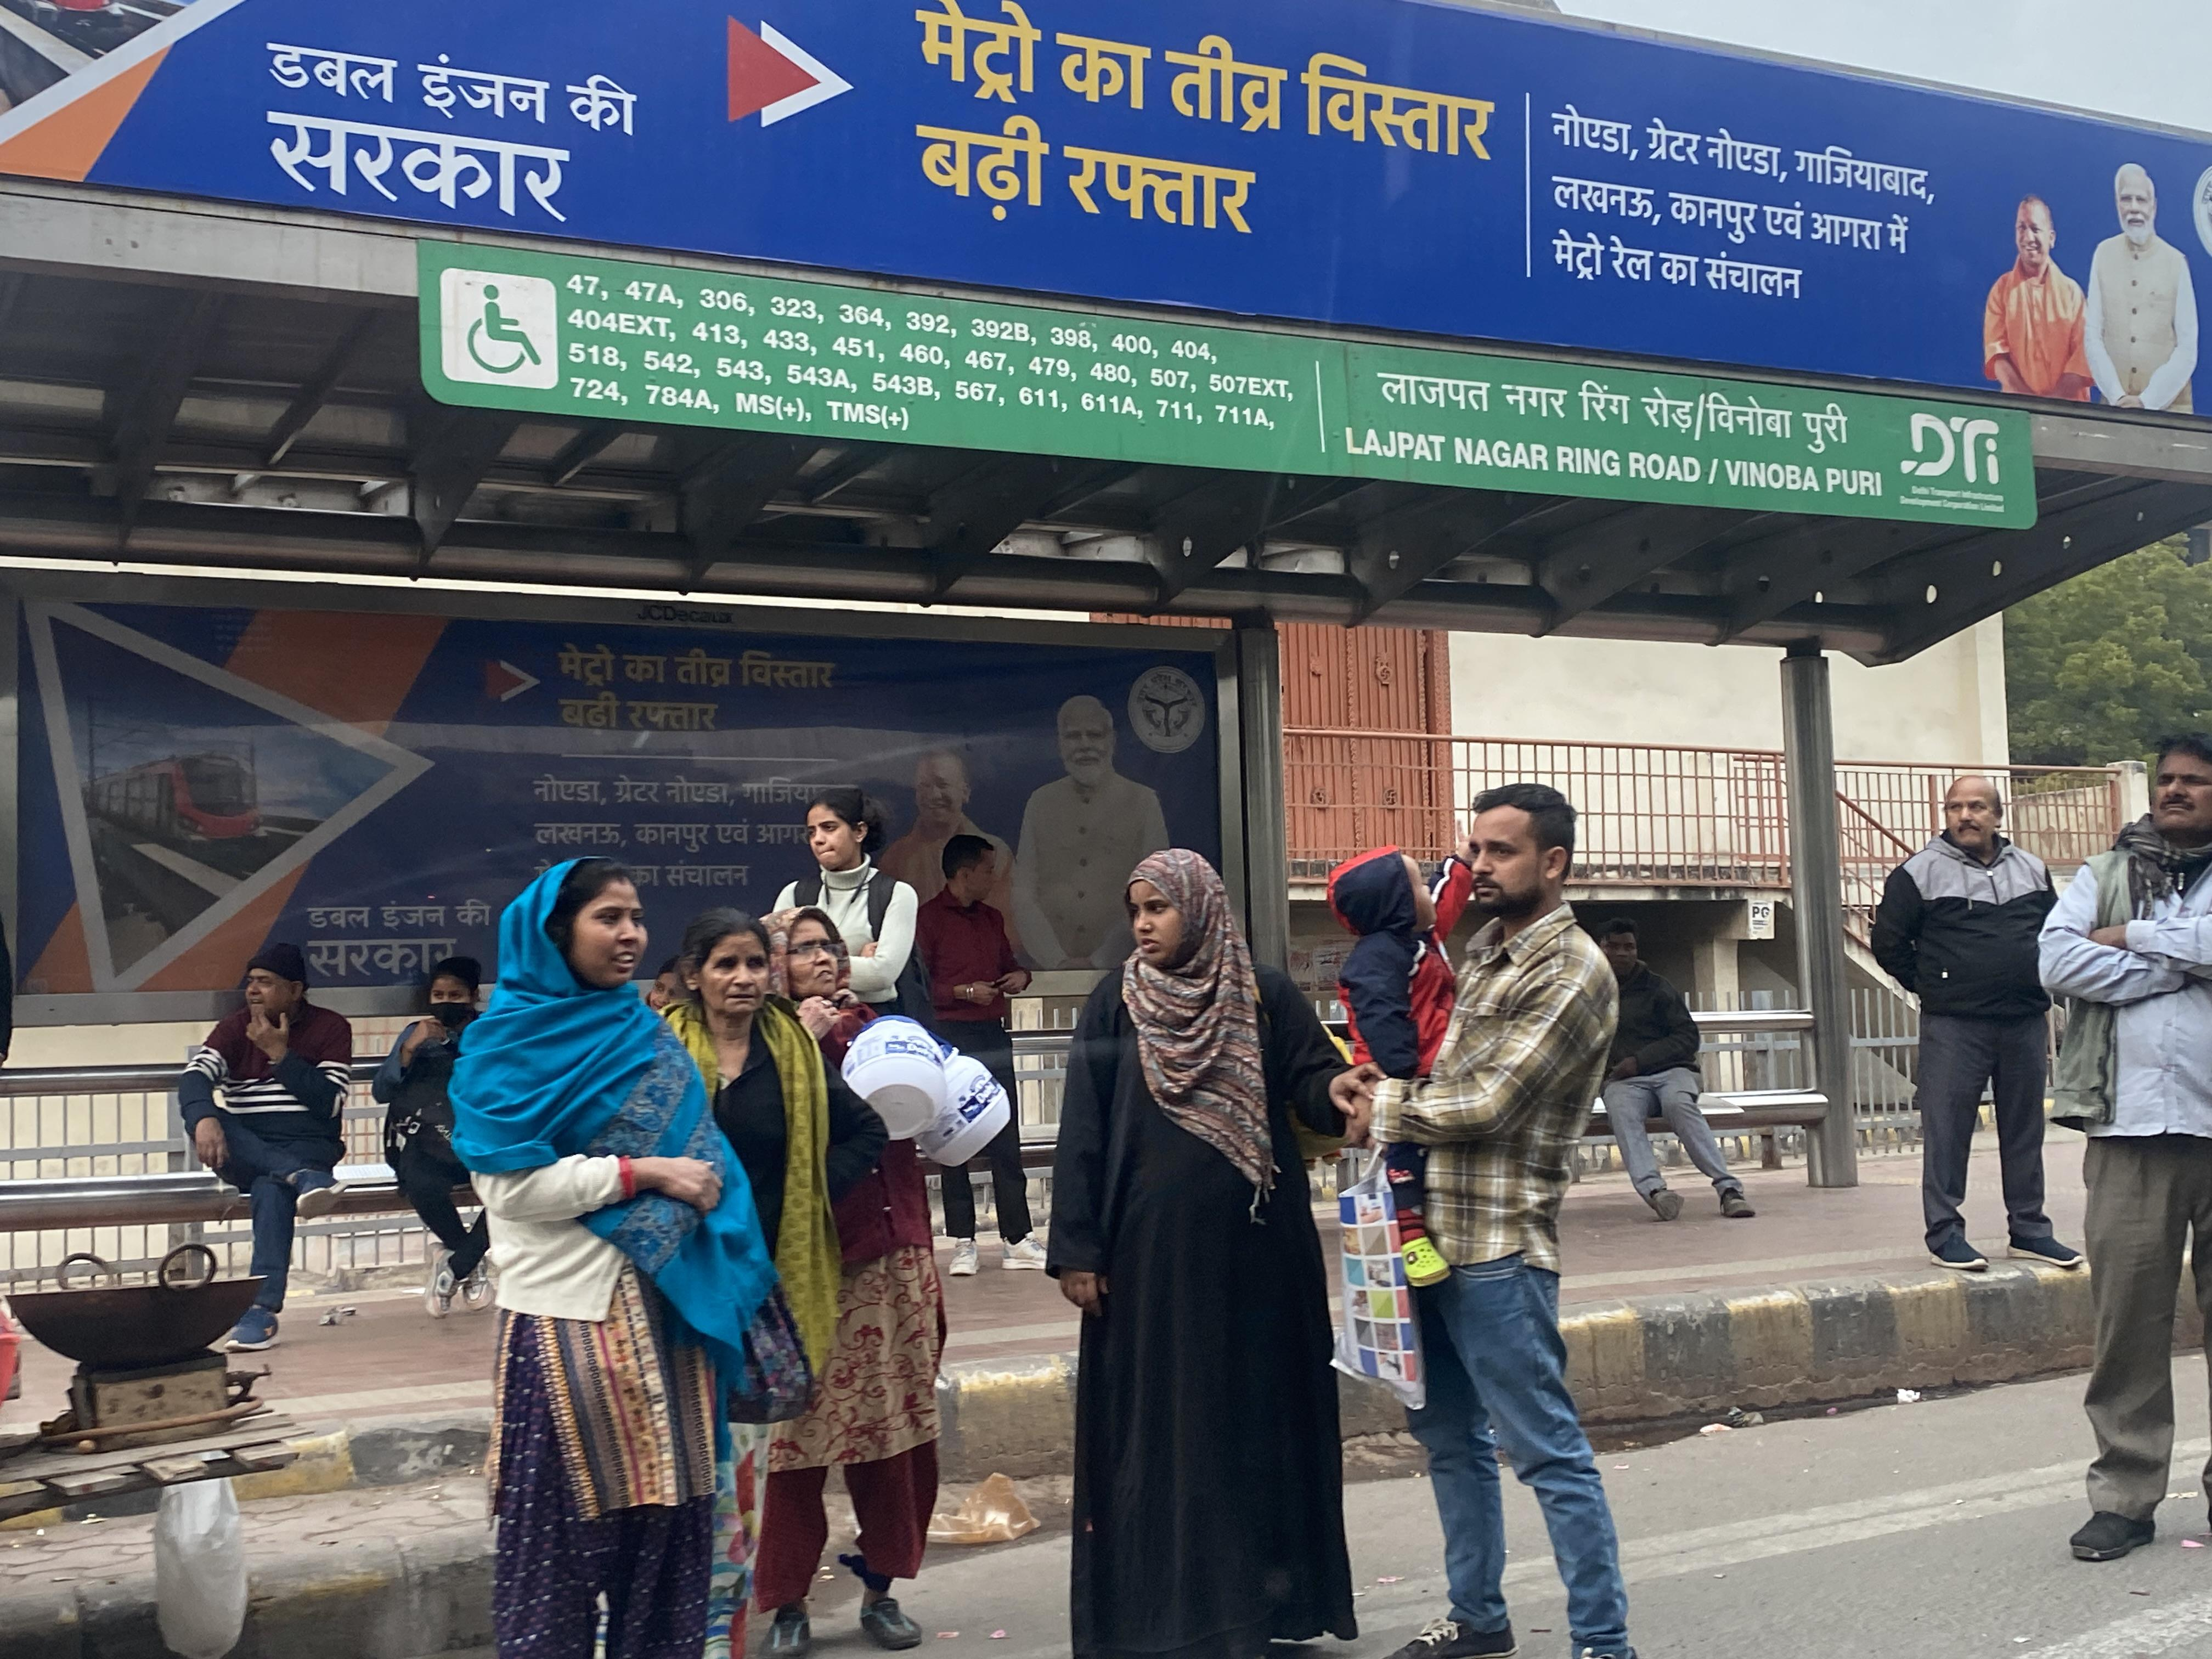Bus-stop-board: (383, 242, 2057, 538)
